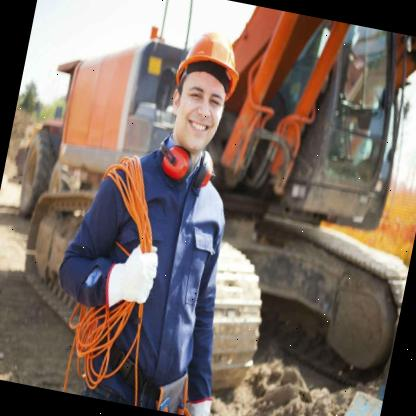capacete: (169, 28, 249, 104)
